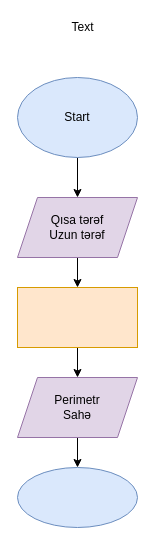
Some shapes in this 155 by 545 pixel diagram are drawn without their labels. The shapes that lost their labels are listed below. From the top down, each one's centre as x and y in pixels, then its label:
At (77,317): "Perimetr = 2*(Qisa tərəf + Uzun tərəf) Sahə= Qısa tərəf * Uzun tərəf".
At (77,497): "Son".
